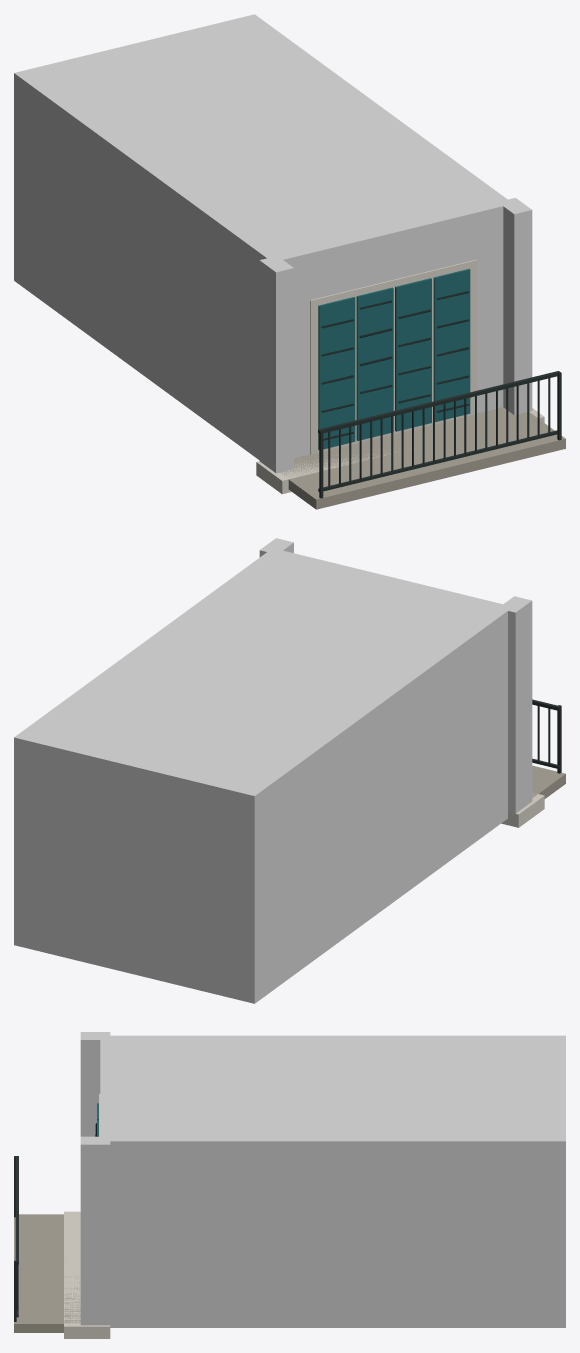
The model's file is lau_ban_cong_40.glb.
3 renders of one model, top to bottom at view 1: azimuth 30°, elevation 25°; view 2: azimuth 150°, elevation 25°; view 3: azimuth 270°, elevation 25°, orthographic. The views are drawn at different scales.
Visible parts, largest first — view 1: lau_ban_cong_40; view 2: lau_ban_cong_40; view 3: lau_ban_cong_40.
Boxes of the visible parts, x1,y1,x2,y2 form: lau_ban_cong_40: (14, 14, 565, 509); lau_ban_cong_40: (14, 538, 565, 1003); lau_ban_cong_40: (14, 1032, 565, 1338).
Bounding box in the file's own units: 4.1 × 3.2 × 8.3.
